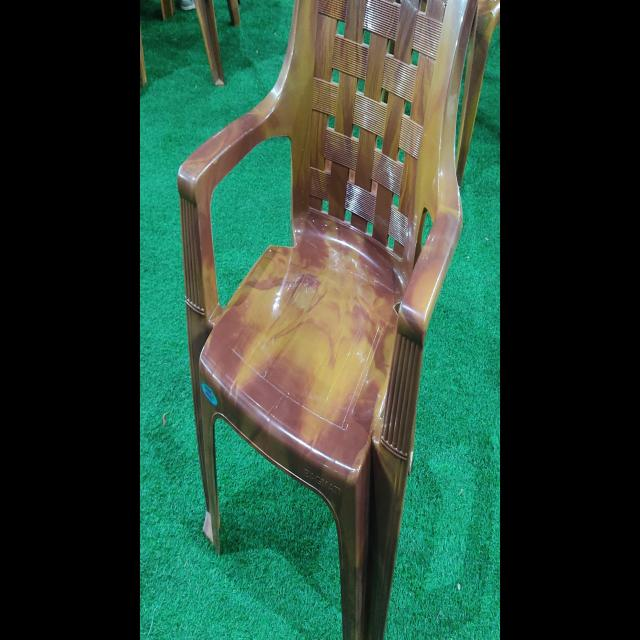Chair: (176, 1, 489, 638)
